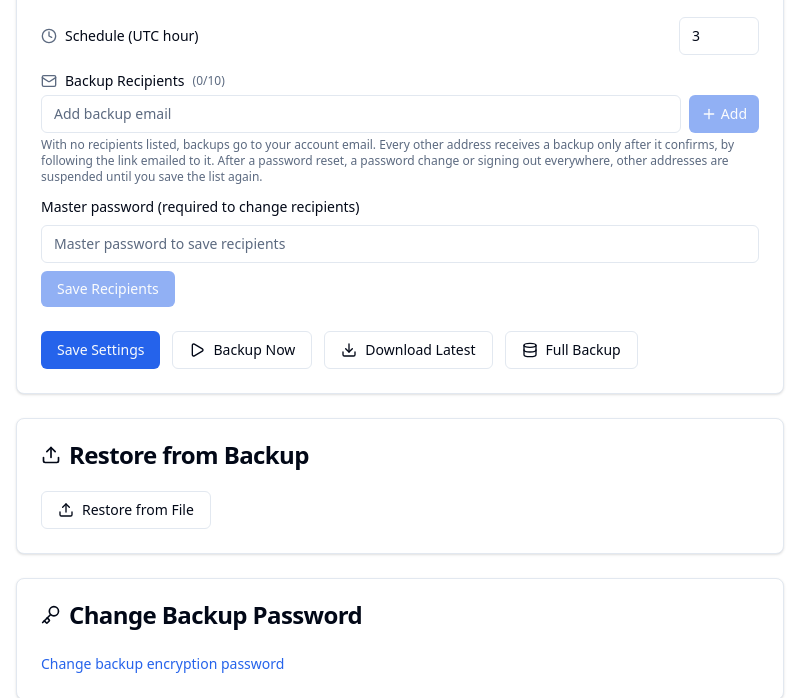
Test: the Full Backup panel › warns about the in-memory limit and the hidden-tab lock where they apply
(page scrolled)
Expected: the button "Restore from File" is shown, [41,491,211,529]
Click the button "Full Backup" at (571, 350), box [504,331,638,369]
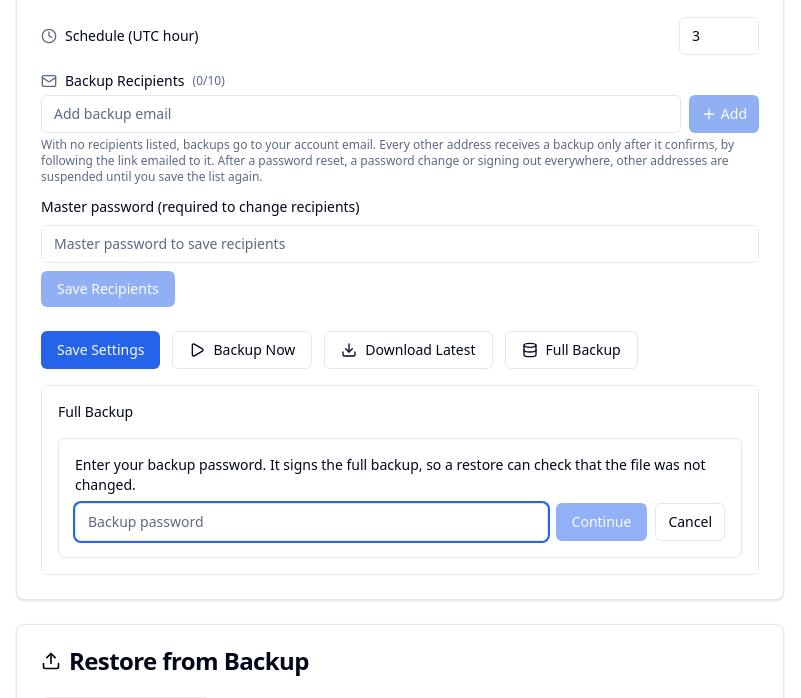
Type "BackupPass!" into the password field named "Backup password for the full backup" at (311, 522), box [75,503,548,541]
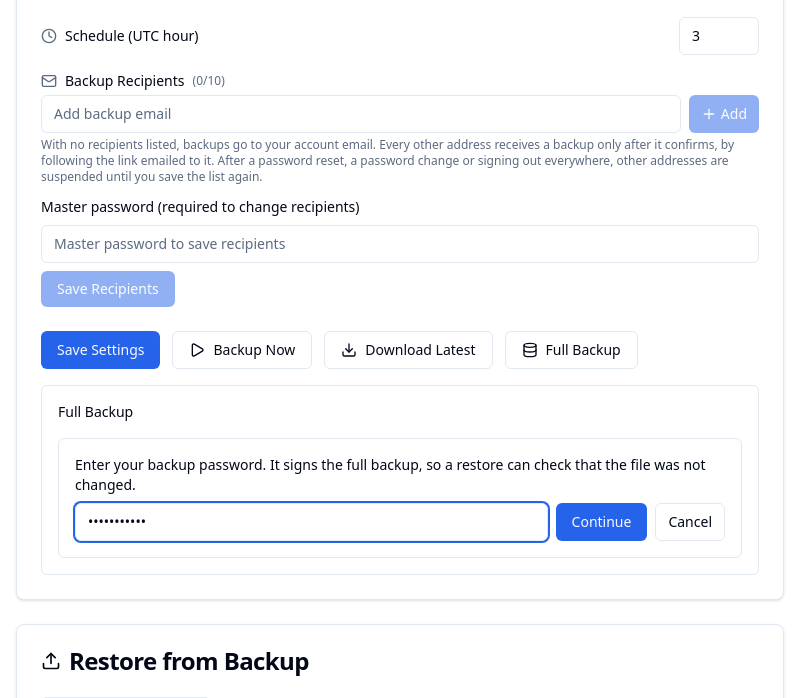
Click the button "Continue" at (602, 522), box [556,503,647,541]
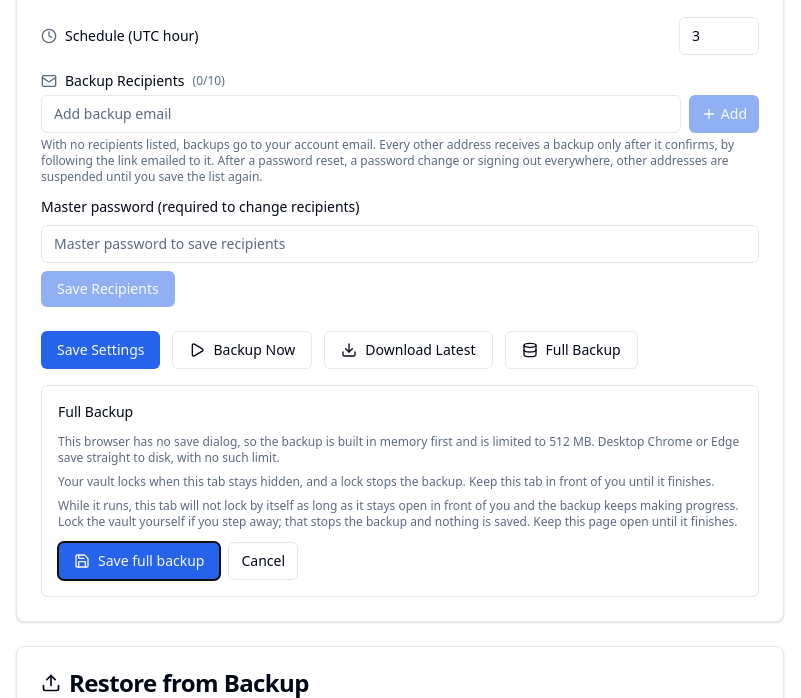
Result: the text "no save dialog, so the backup is built in memory" is shown at [58,433,739,466]
Result: the text "locks when this tab stays hidden" is shown at [58,473,714,490]
Result: the button "Save full backup" is shown at [58,542,220,580]
